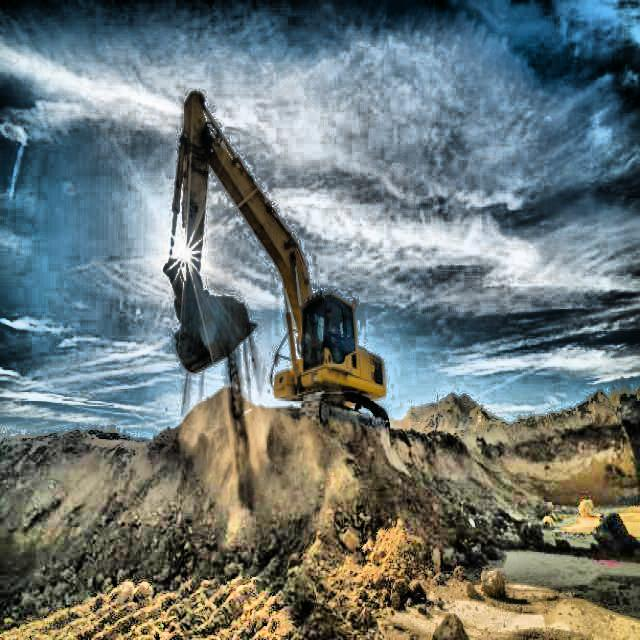excavator: (160, 89, 402, 430)
